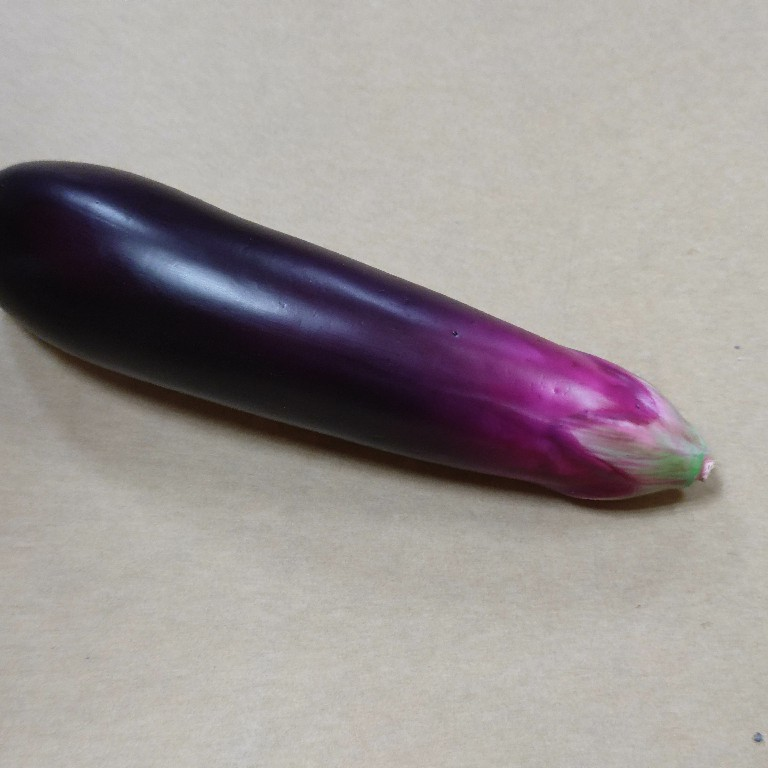fruit_eggplant: (1, 156, 720, 511)
